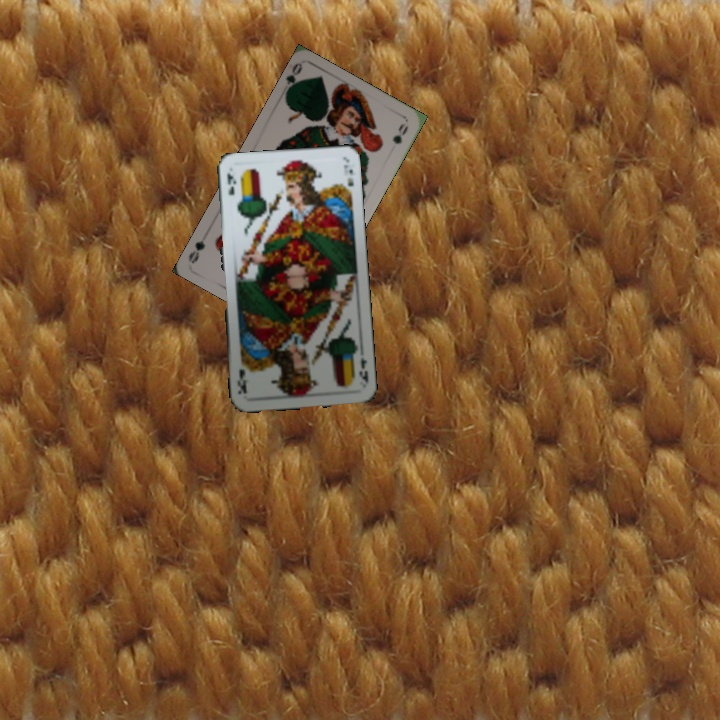EK: (355, 353, 371, 388), (223, 169, 236, 198)
GO: (281, 60, 305, 100)
